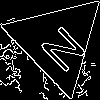N: (32, 16, 89, 75)
